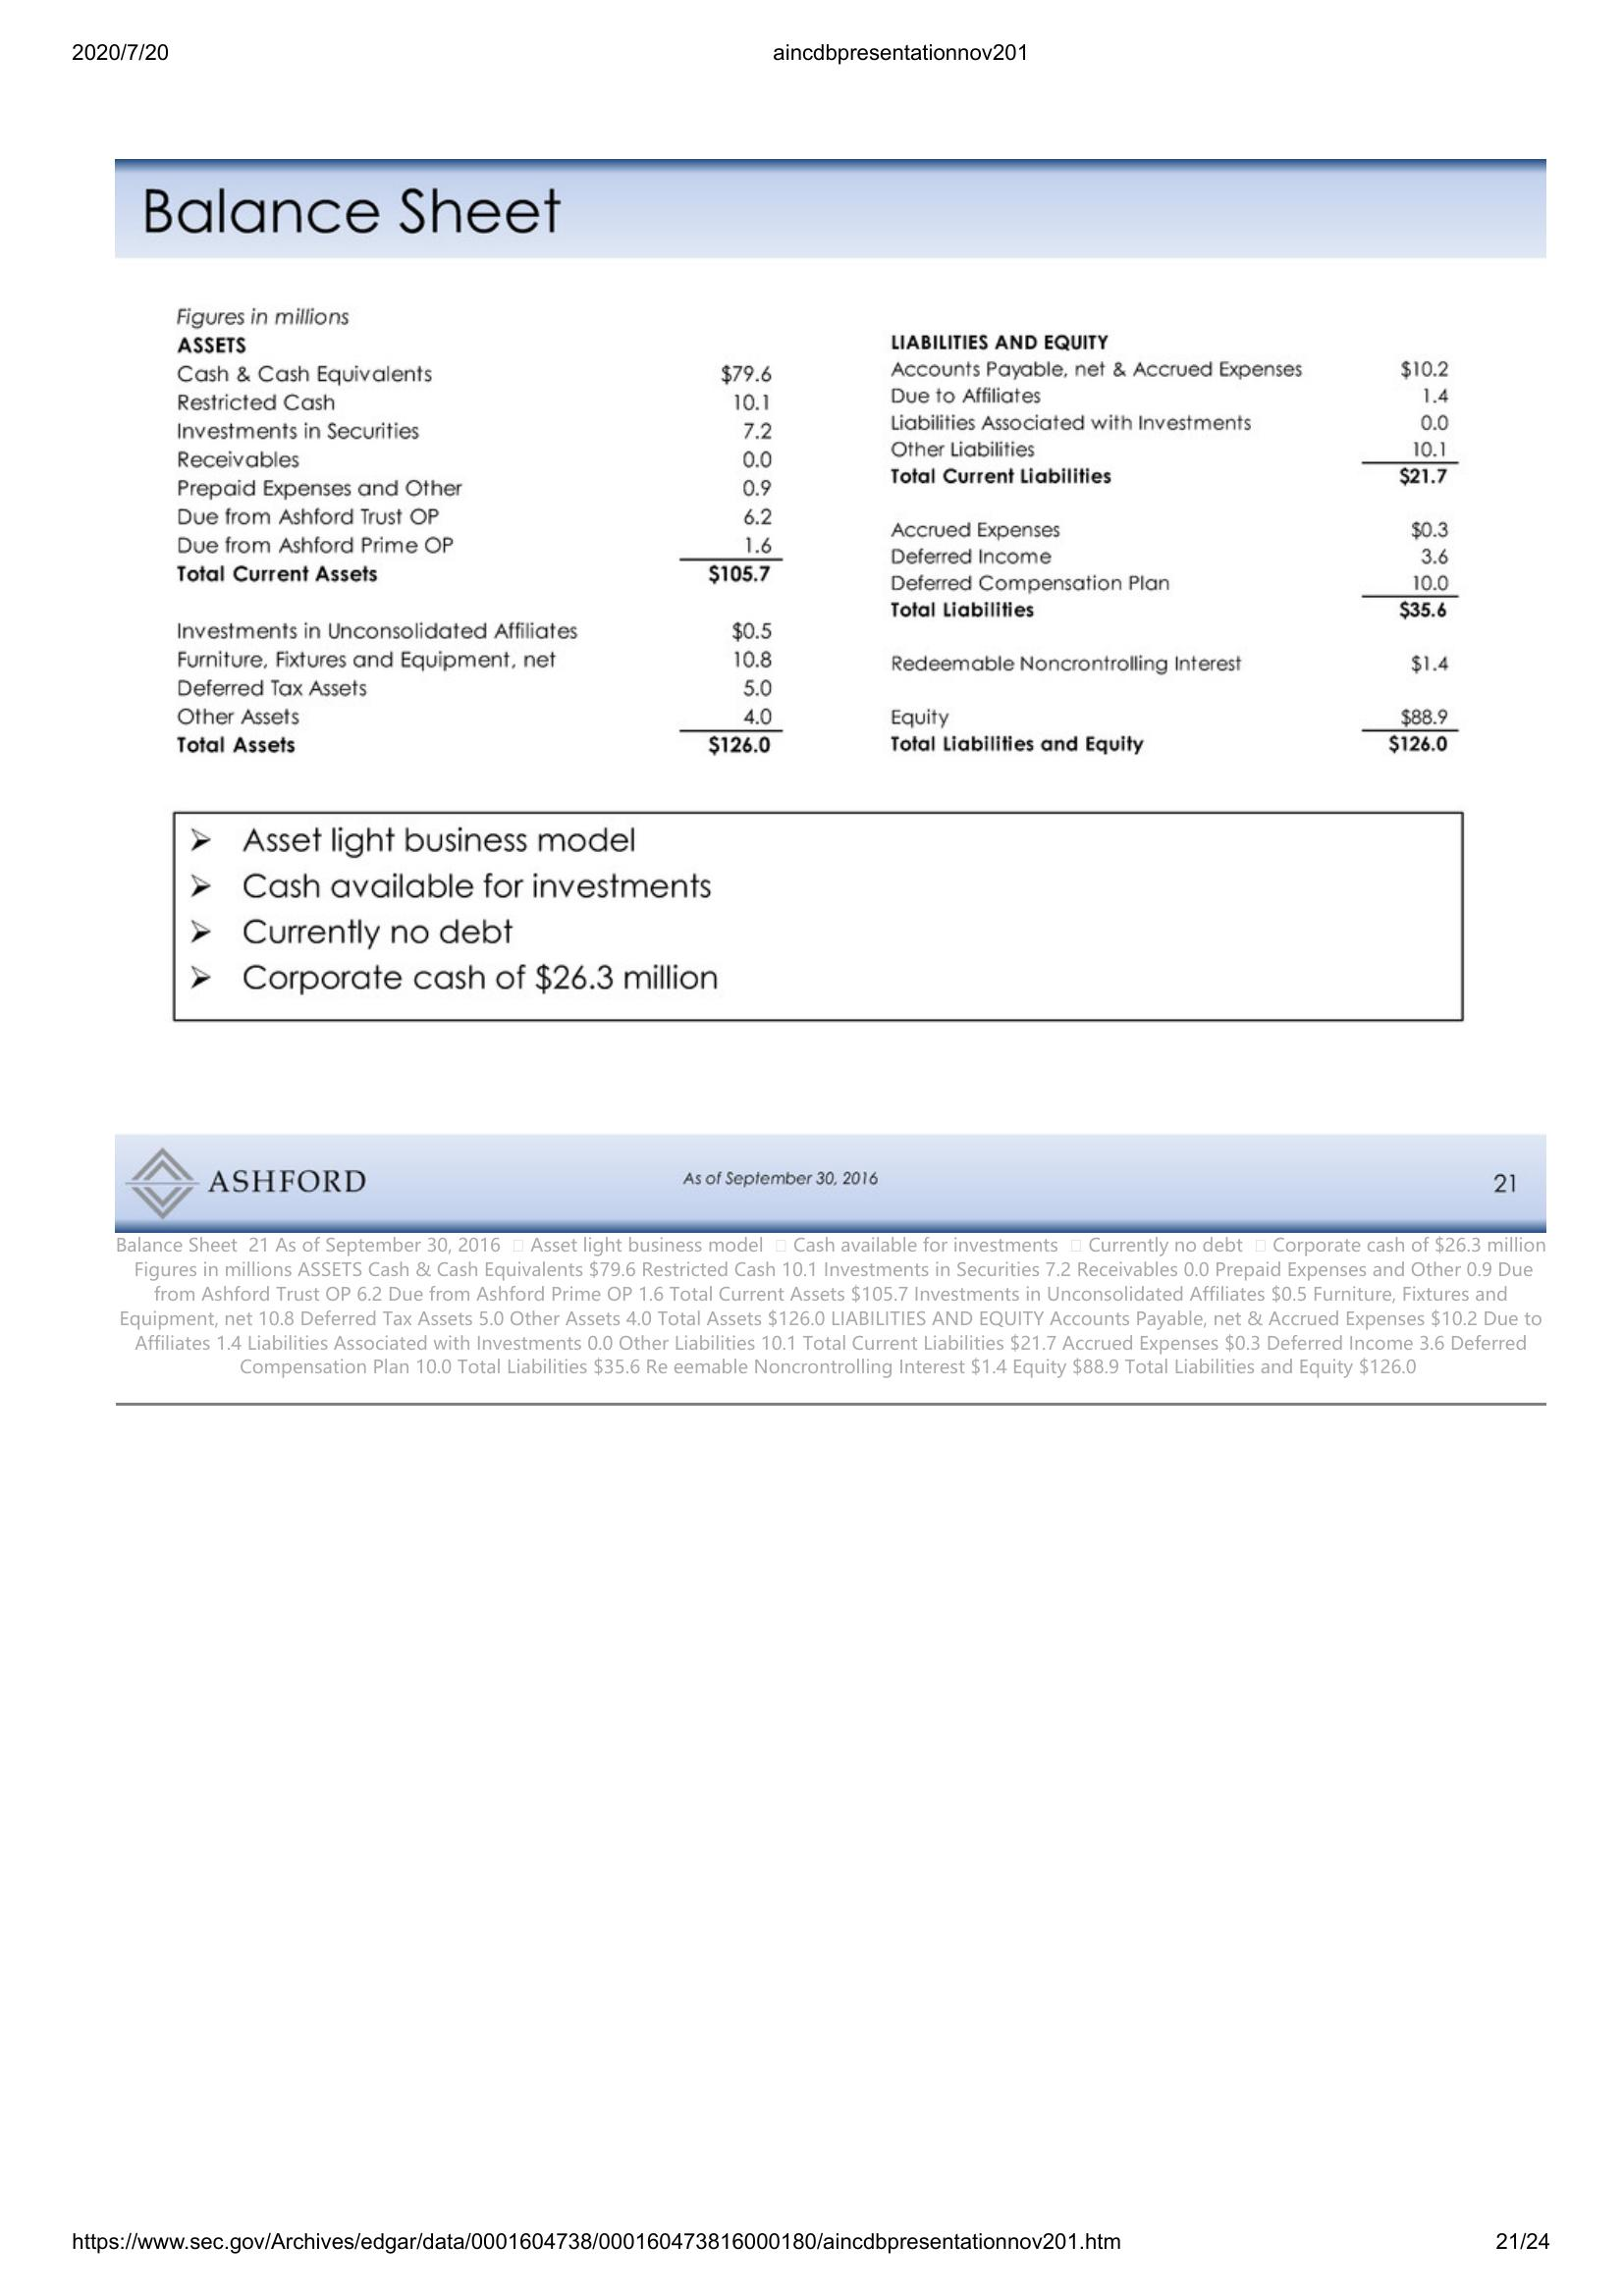table: (169, 298, 787, 769), (884, 318, 1463, 769)
